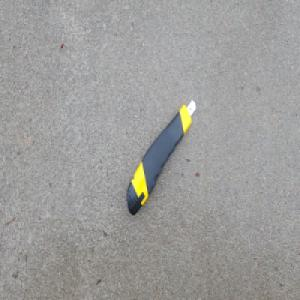Cutter: (126, 99, 195, 217)
